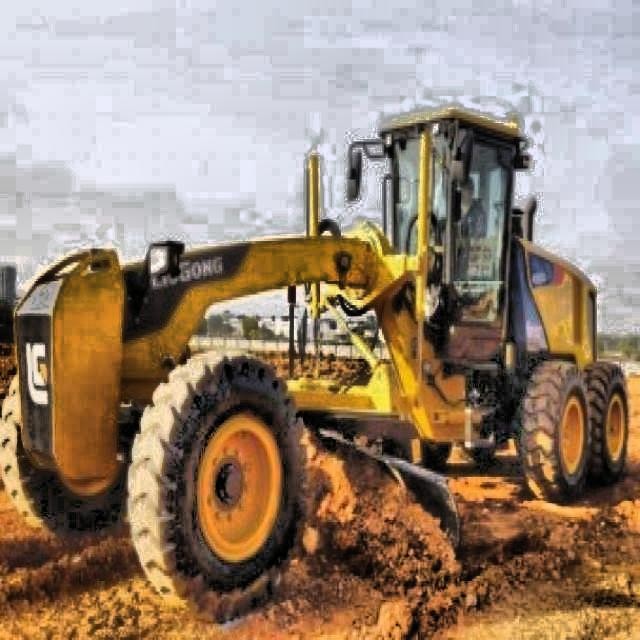bull_dozer/loader/grader: (3, 100, 633, 627)
person: (458, 173, 491, 238)
